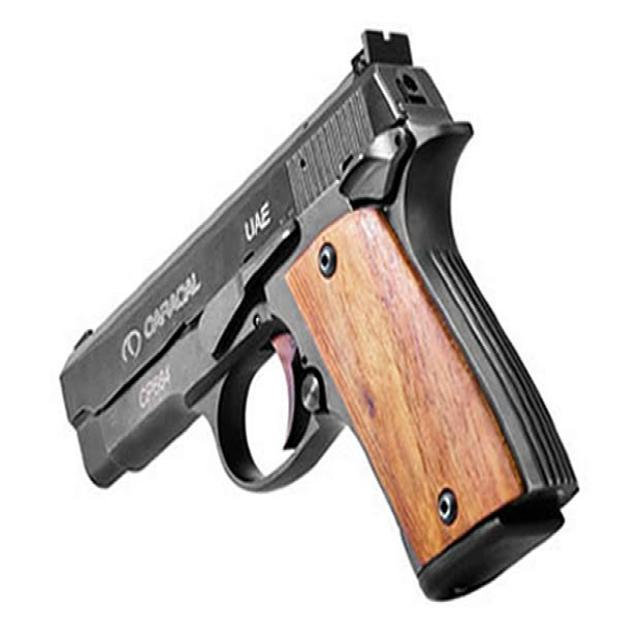Gun: (25, 6, 590, 582)
